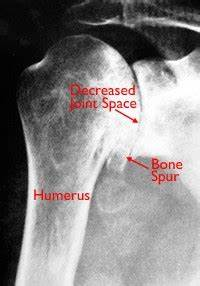telestration: (67, 82, 139, 110), (33, 188, 90, 201), (152, 158, 181, 183), (112, 107, 138, 123), (126, 156, 151, 169)
